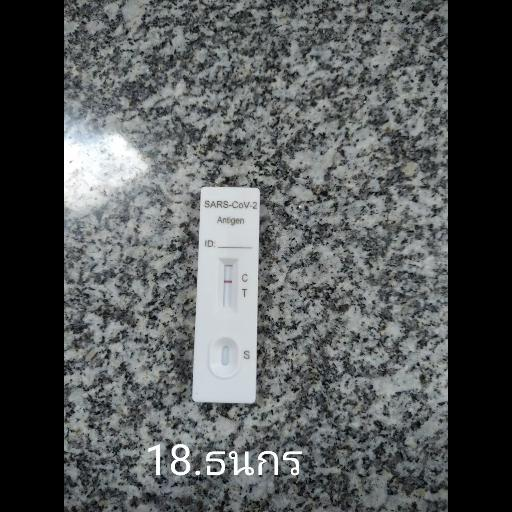Neg: (197, 187, 259, 403)
